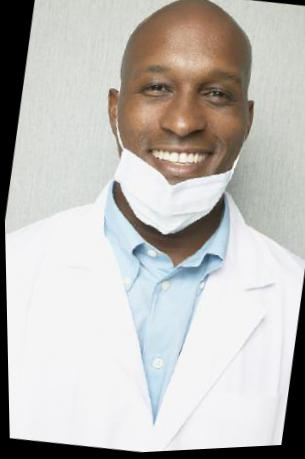WRONG: (103, 44, 256, 232)
